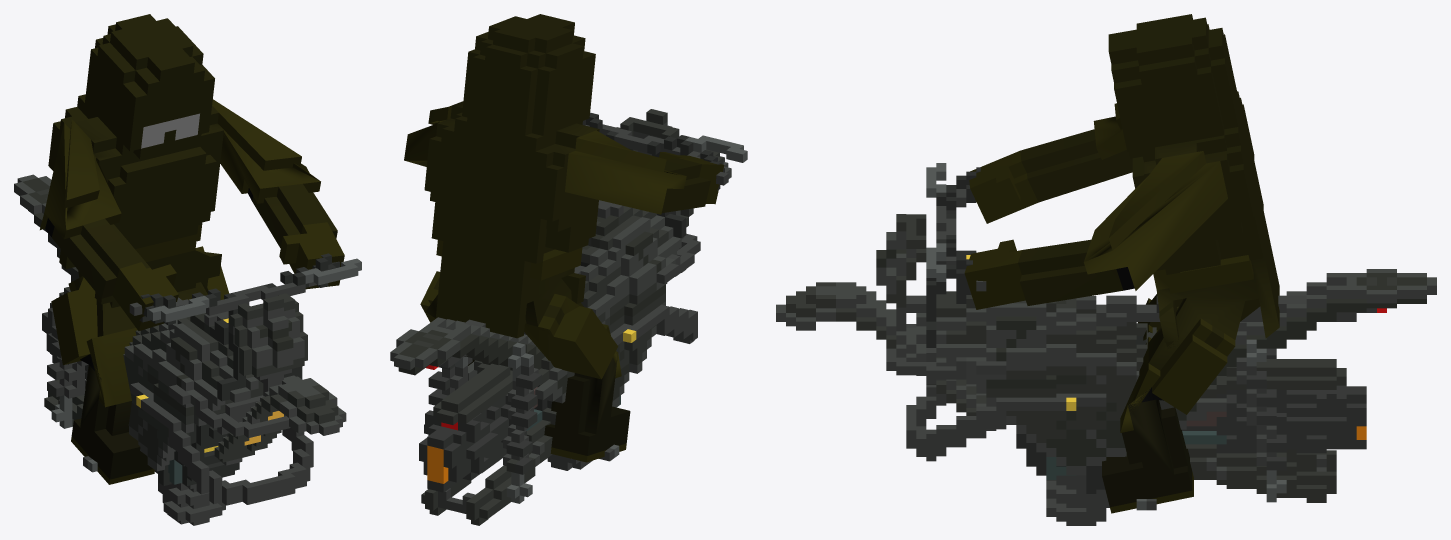
The model's file is OnCross.obj.
The picture shows the model from 3 angles, left to right: view 1: azimuth 30°, elevation 25°; view 2: azimuth 150°, elevation 25°; view 3: azimuth 270°, elevation 25°; orthographic projection. The views are drawn at different scales.
Bounding box in the file's own units: 4.54 × 7.68 × 9.36.
2 materials, 2 textured.
